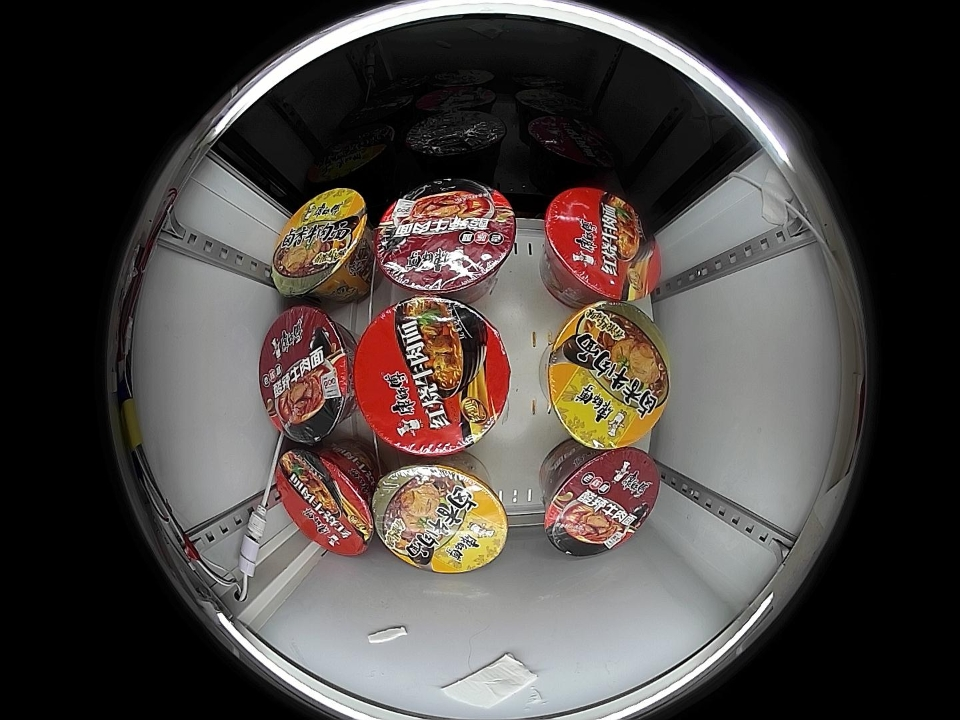hongshaoniurou: (354, 296, 511, 457), (543, 187, 661, 302), (275, 445, 375, 557)
luxiangniurou: (545, 303, 670, 450), (372, 461, 508, 574), (271, 188, 370, 298)
suanlaniurou: (373, 179, 517, 295), (260, 305, 355, 443), (544, 449, 659, 556)
